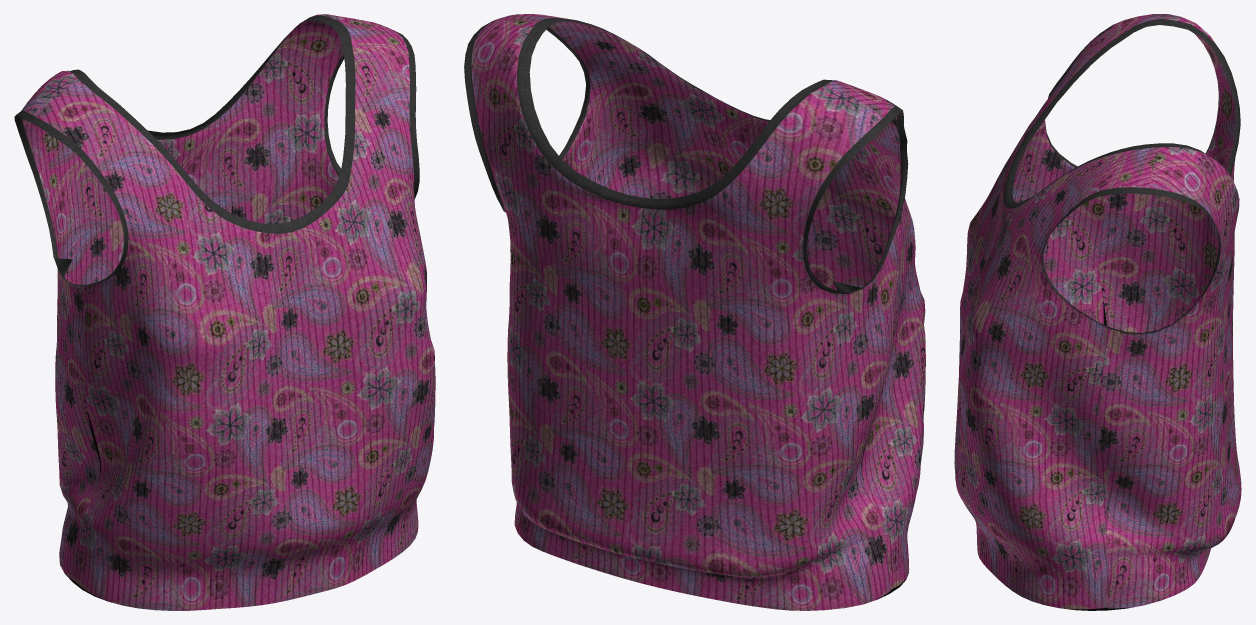
Rendered from top_camisole.gltf.
The picture shows the model from 3 angles, left to right: view 1: azimuth 30°, elevation 25°; view 2: azimuth 150°, elevation 25°; view 3: azimuth 270°, elevation 25°; orthographic projection. The views are drawn at different scales.
Parts seen in each view (by area): view 1: top_camisole; view 2: top_camisole; view 3: top_camisole.
Part boxes in pixels (bbox=[...]): top_camisole: bbox=[14, 14, 435, 610]; top_camisole: bbox=[464, 14, 925, 610]; top_camisole: bbox=[954, 14, 1241, 610].
Bounding box in the file's own units: 0.3426 × 0.421 × 0.2384.
Materials: 1 (1 with a texture image).
